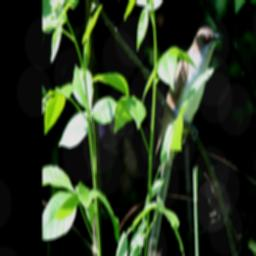Cuckoo: (147, 25, 225, 256)
